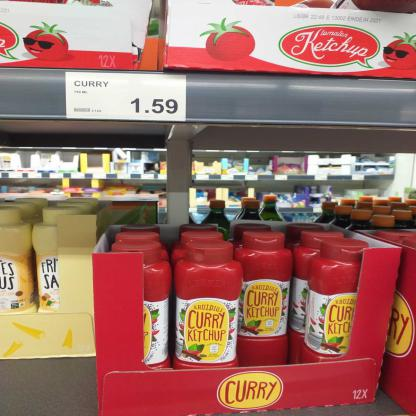prtg: (66, 73, 187, 122)
